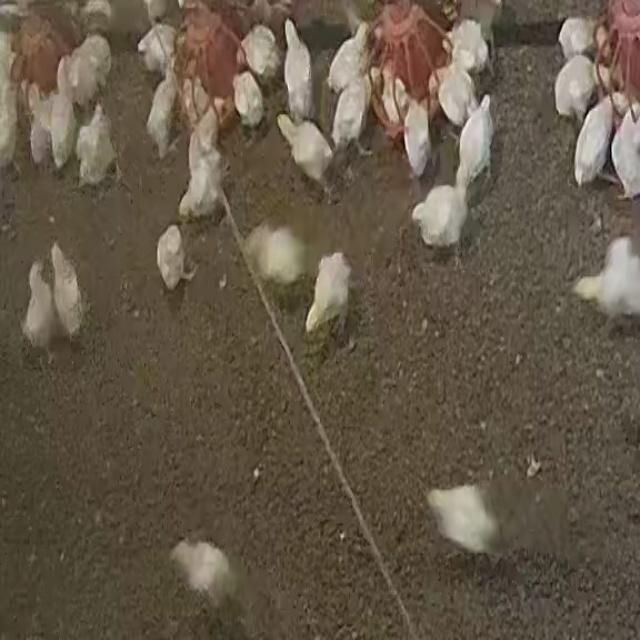chicken: (575, 236, 640, 322), (422, 488, 500, 556), (172, 538, 239, 610), (303, 249, 353, 338), (240, 220, 306, 284), (410, 183, 472, 251), (455, 95, 494, 195), (179, 137, 224, 222), (276, 106, 328, 179), (65, 32, 112, 112), (573, 99, 614, 187), (280, 14, 313, 119), (75, 103, 116, 187), (47, 239, 84, 331), (331, 68, 369, 156), (553, 52, 599, 122), (48, 68, 78, 170), (609, 102, 640, 199), (0, 38, 22, 173), (145, 74, 179, 161), (436, 59, 476, 132), (332, 17, 368, 97), (187, 99, 225, 174), (448, 16, 489, 80), (239, 22, 280, 85), (152, 228, 194, 288), (402, 101, 432, 181), (136, 21, 178, 78), (26, 261, 51, 354), (376, 59, 410, 124), (232, 70, 266, 132), (26, 82, 50, 168), (556, 15, 598, 60)
